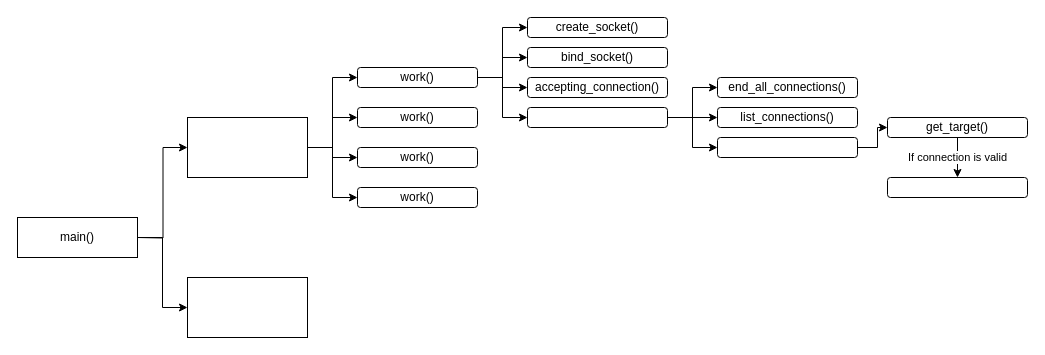
Image size: 1045x355. Some labels were removed from this diagram. Here are the shapes that lost their labels. From the top down, the box of each, then its label:
(526, 106, 668, 128): execute_commands()
(186, 116, 308, 178): create_workers()
(716, 136, 858, 158): select connection
(886, 176, 1028, 198): send_target_command
(186, 276, 308, 338): create_jobs()
